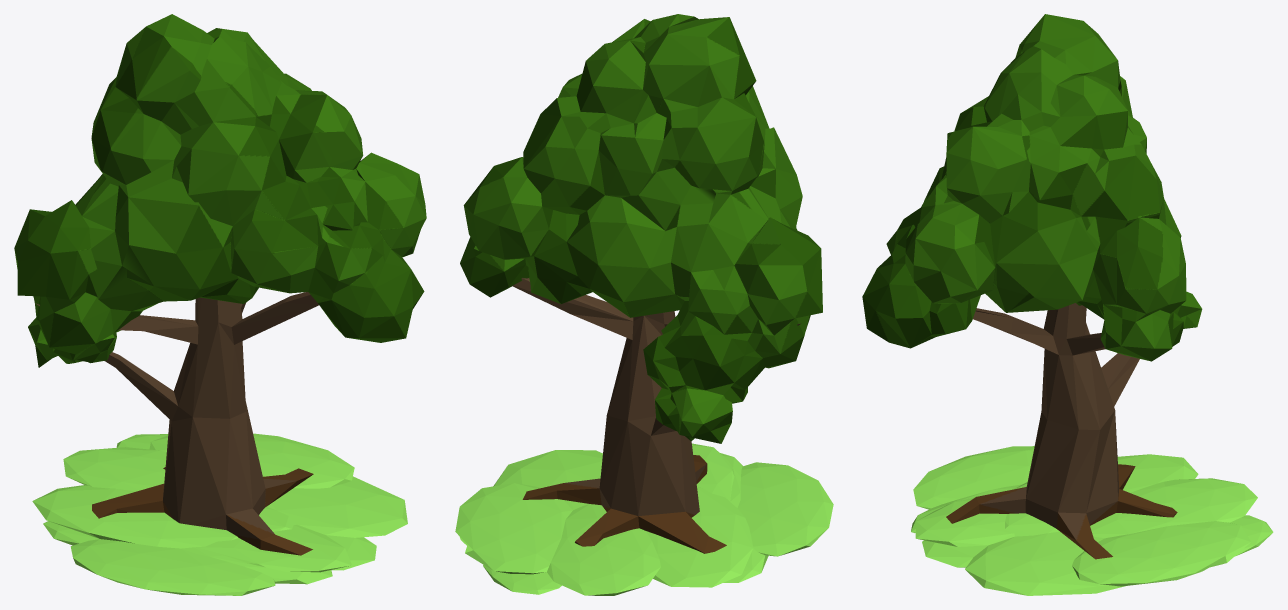
The model's file is Tree.glb.
3 renders of one model, left to right at view 1: azimuth 30°, elevation 25°; view 2: azimuth 150°, elevation 25°; view 3: azimuth 270°, elevation 25°, orthographic. The views are drawn at different scales.
Visible parts, largest first — view 1: tree, tree.001; view 2: tree, tree.001; view 3: tree, tree.001.
Boxes of the visible parts, x1,y1,x2,y2 form: tree: (14, 14, 426, 555); tree.001: (32, 433, 407, 595); tree: (460, 14, 822, 553); tree.001: (455, 443, 833, 595); tree: (862, 14, 1202, 559); tree.001: (911, 446, 1273, 595).
Size of the model in its own units: 2 by 2.84 by 2.18.
Materials: 2 (1 with a texture image).
